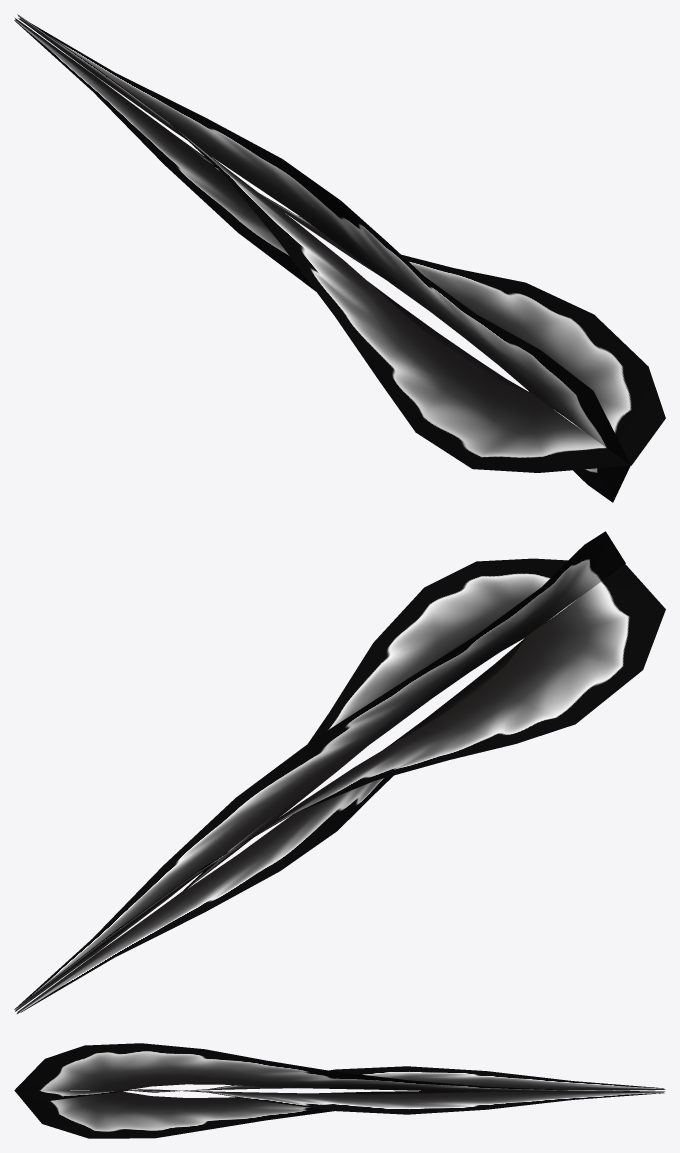
File: zidanliuguang02.FBX
The picture shows the model from 3 angles, top to bottom: view 1: azimuth 30°, elevation 25°; view 2: azimuth 150°, elevation 25°; view 3: azimuth 270°, elevation 25°; orthographic projection. The views are drawn at different scales.
Parts seen in each view (by area): view 1: zidan_liuguang002; view 2: zidan_liuguang002; view 3: zidan_liuguang002.
Boxes of the visible parts, bbox=[...] form: zidan_liuguang002: bbox=[14, 14, 665, 502]; zidan_liuguang002: bbox=[14, 531, 665, 1013]; zidan_liuguang002: bbox=[14, 1043, 665, 1138].
Size of the model in its own units: 36.86 by 30.88 by 228.
